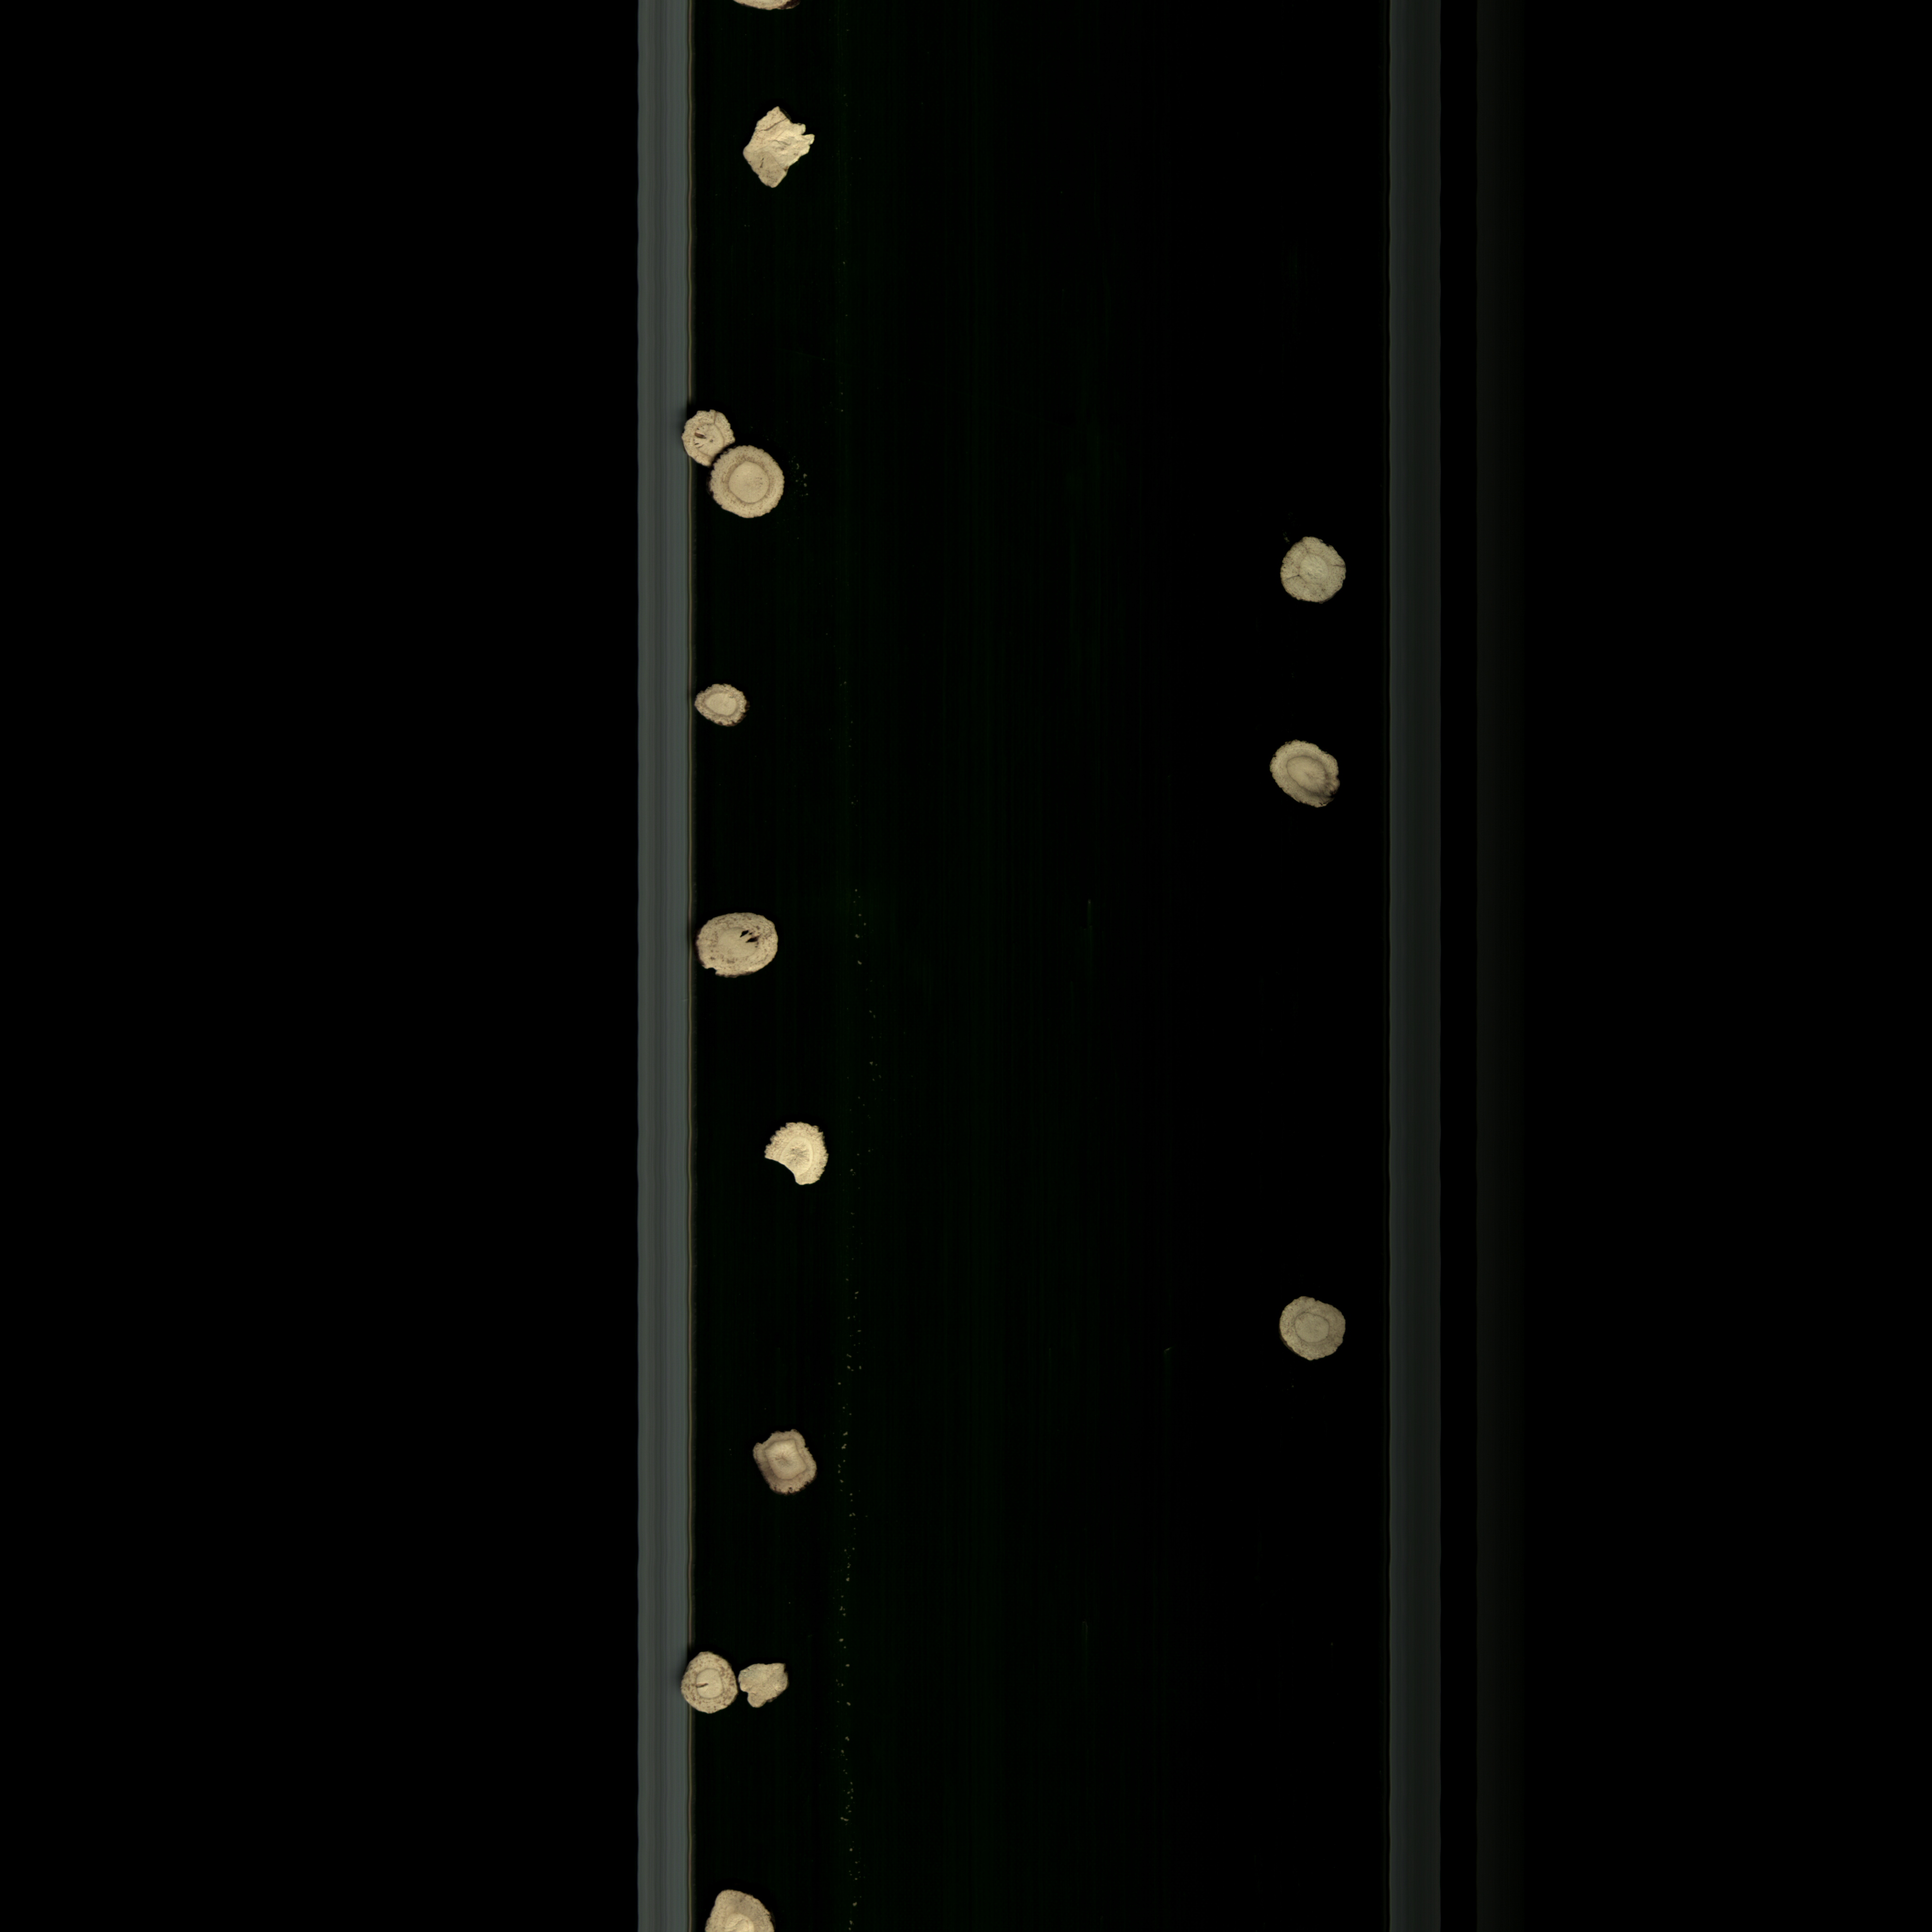debris: (750, 1111, 840, 1205)
distortion: (727, 96, 830, 196), (722, 1654, 796, 1718)
hole: (690, 901, 787, 985), (672, 402, 748, 469)
moldy: (1256, 727, 1352, 821), (1265, 1290, 1357, 1378), (745, 1422, 830, 1511), (685, 679, 759, 734)
